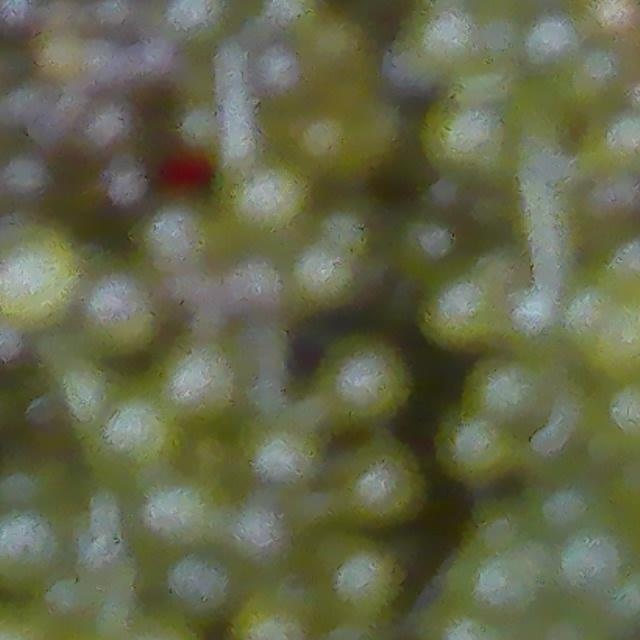SeaGrape: (0, 220, 87, 331), (456, 530, 554, 624), (321, 334, 412, 425), (335, 441, 425, 530), (96, 398, 179, 483), (469, 354, 552, 431), (327, 539, 403, 622), (439, 412, 520, 486), (231, 160, 310, 235), (423, 277, 501, 350), (554, 524, 630, 597), (163, 346, 236, 421), (250, 422, 324, 489), (166, 548, 236, 618), (230, 586, 319, 640), (523, 14, 578, 70)
